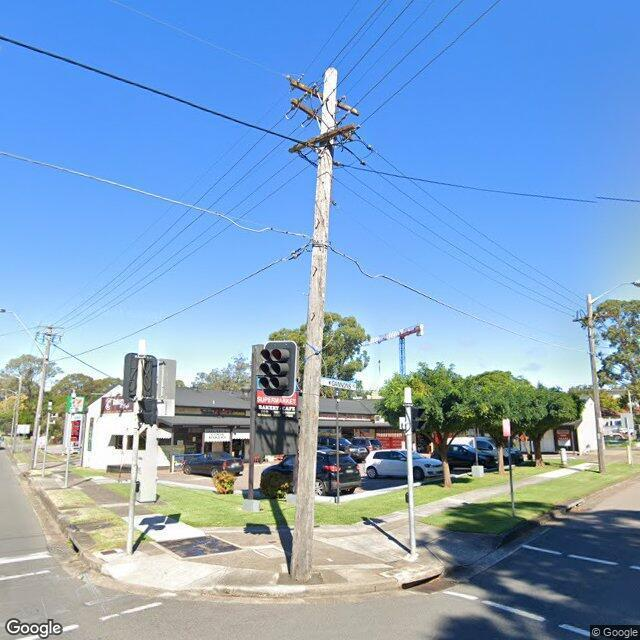crossarm: (290, 97, 355, 143), (289, 77, 359, 116), (288, 123, 355, 153), (572, 313, 612, 323), (34, 331, 62, 338)
steel-pole: (126, 340, 146, 556), (404, 387, 416, 556)
streetlight: (0, 308, 46, 358), (591, 281, 640, 304)
timber-pole: (289, 66, 339, 582), (586, 294, 606, 474), (29, 326, 53, 470)
traffic-light: (258, 341, 297, 396), (123, 352, 158, 401), (136, 398, 158, 427), (412, 406, 428, 433)
